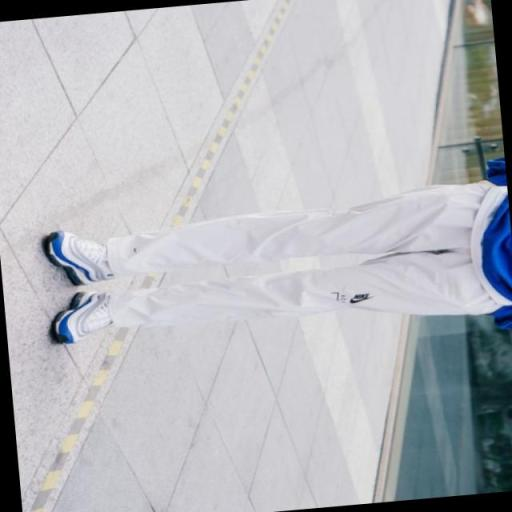Nike: (350, 297, 371, 304), (352, 292, 369, 300)
